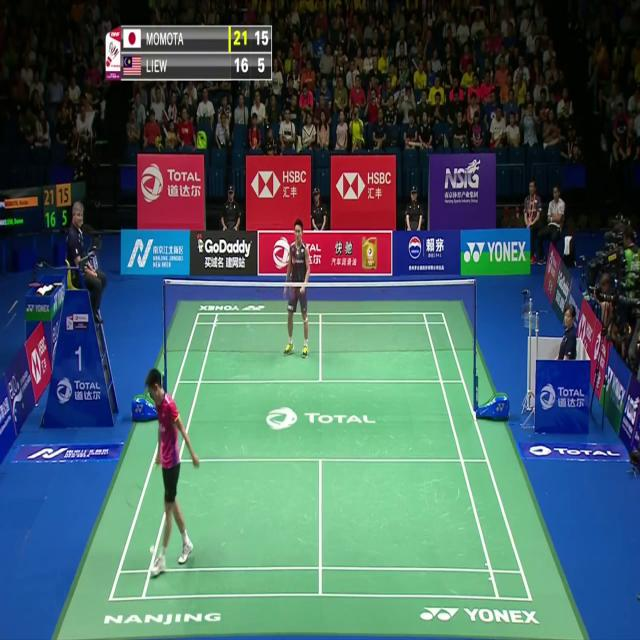Shuttlecock: (148, 544, 155, 556)
